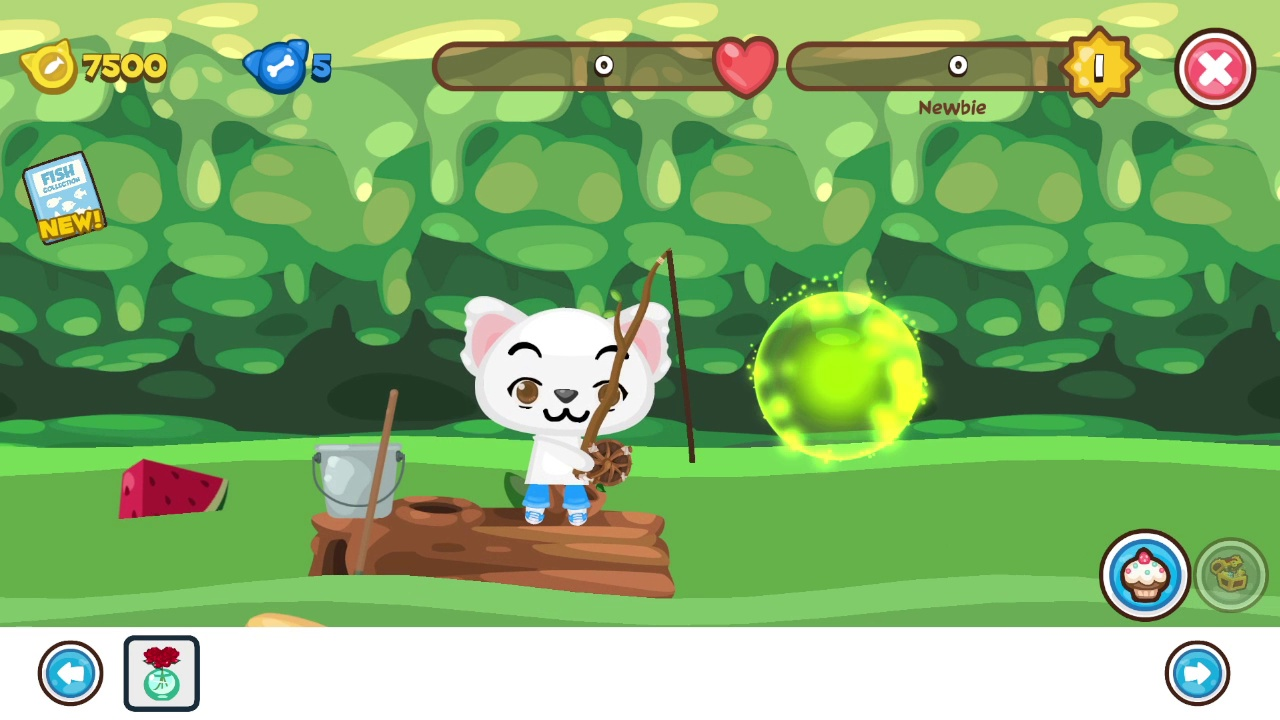point: (751, 290, 924, 461)
